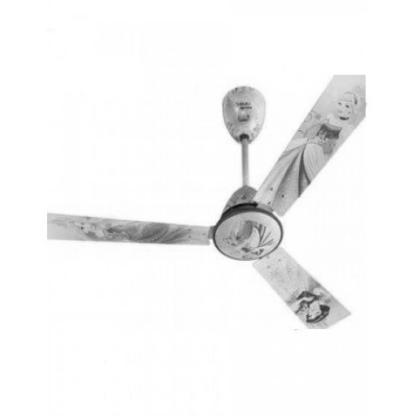ceiling-fan: (47, 75, 367, 330)
